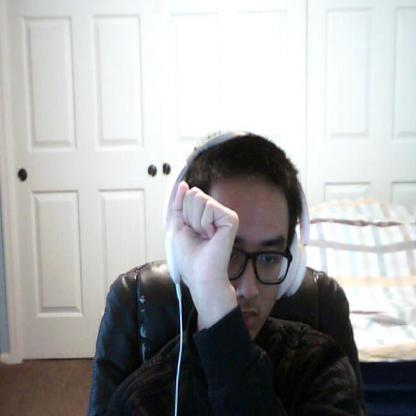fist: (161, 176, 239, 284)
